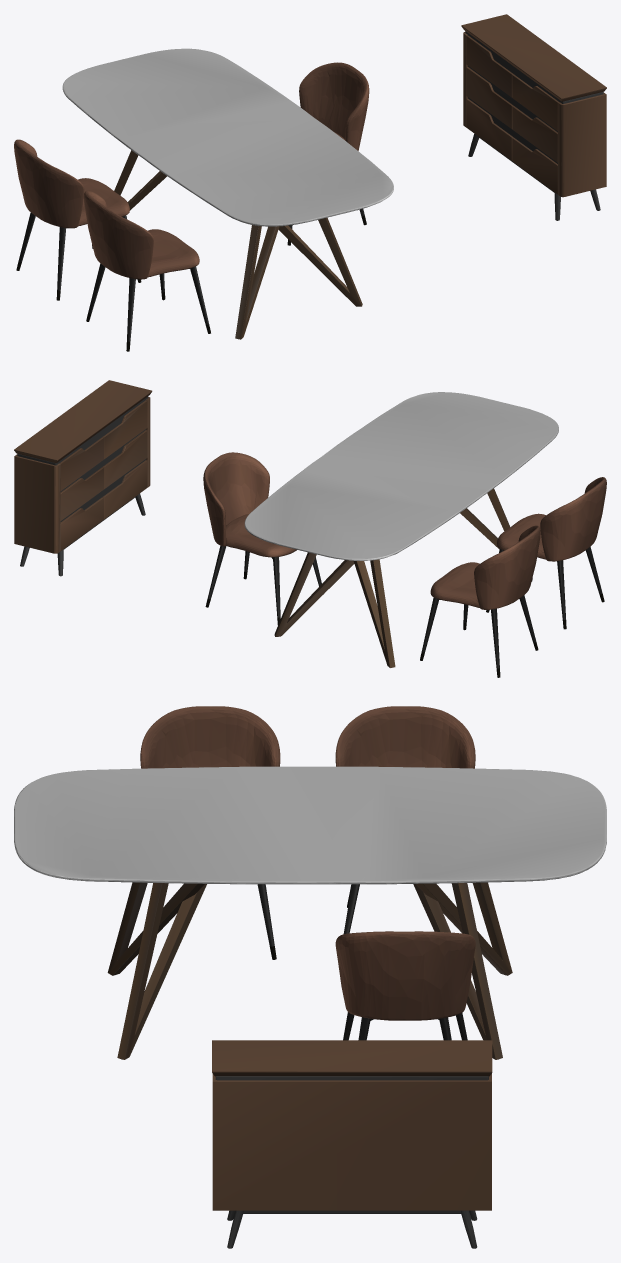
The model's file is gallery-front-dining-68889-lowres.glb.
3 renders of one model, top to bottom at view 1: azimuth 30°, elevation 25°; view 2: azimuth 150°, elevation 25°; view 3: azimuth 270°, elevation 25°, orthographic. The views are drawn at different scales.
Parts seen in each view (by area): view 1: assembled_scene; view 2: assembled_scene; view 3: assembled_scene.
Part boxes in pixels (bbox=[...]): assembled_scene: bbox=[14, 14, 606, 351]; assembled_scene: bbox=[14, 380, 606, 677]; assembled_scene: bbox=[14, 706, 606, 1248].
Size of the model in its own units: 1.35 by 0.3482 by 0.966.
